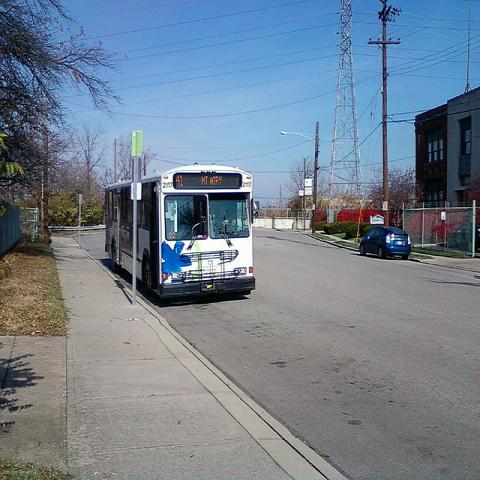bus: (106, 166, 255, 303)
car: (359, 227, 411, 259), (448, 224, 479, 252)
